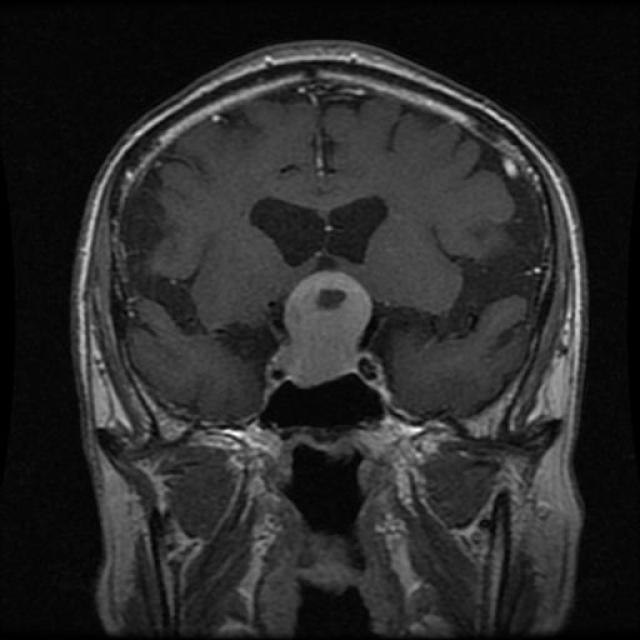pituitary: (274, 258, 394, 402)
